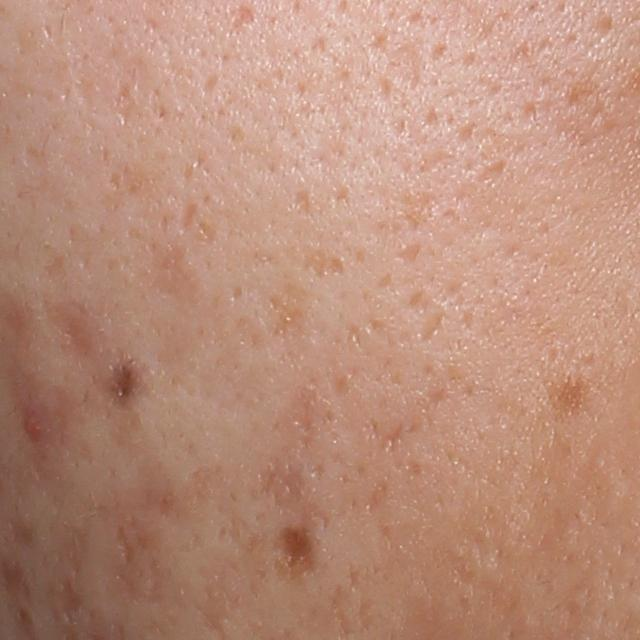atrophic_scar: (43, 298, 108, 368), (107, 510, 165, 567), (254, 456, 309, 516), (378, 38, 429, 96), (42, 576, 93, 625), (274, 521, 314, 570), (298, 245, 349, 278), (226, 1, 259, 37), (374, 421, 407, 455), (472, 159, 510, 187), (418, 309, 448, 344), (293, 188, 317, 222), (182, 203, 202, 234), (393, 240, 421, 260)
papule: (16, 399, 48, 451)
